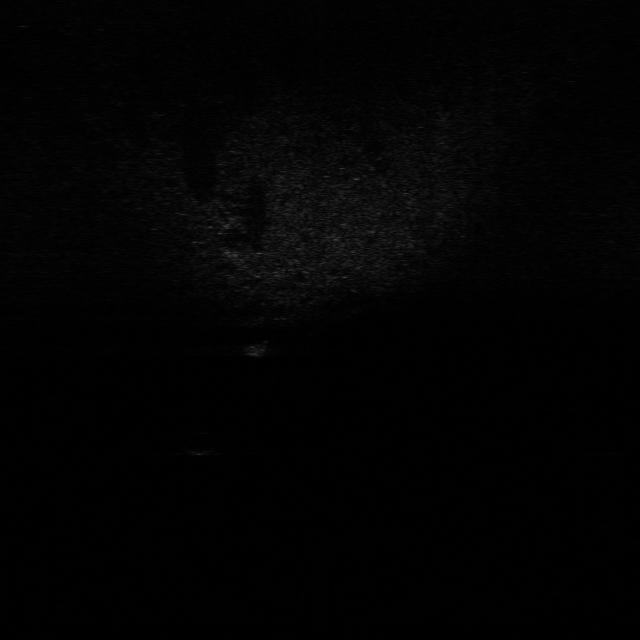ball: (178, 426, 222, 458)
cube: (237, 337, 273, 360)
